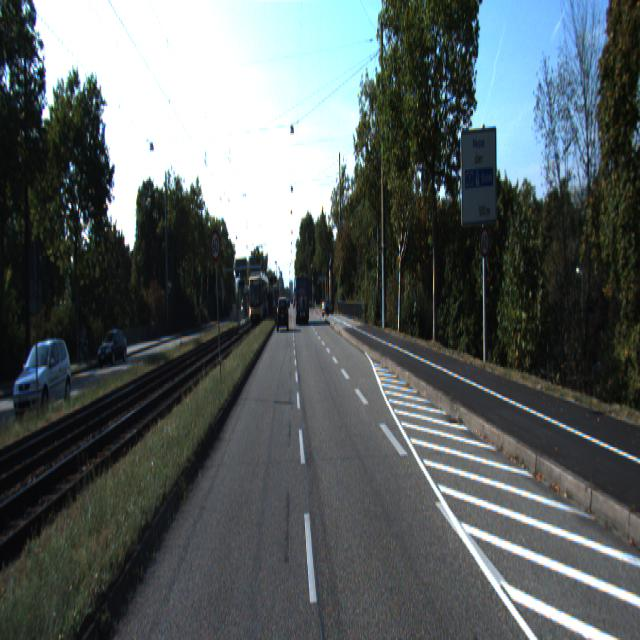Car: (14, 338, 75, 421), (97, 328, 128, 369), (248, 276, 268, 328), (295, 276, 310, 326), (276, 297, 288, 331)
